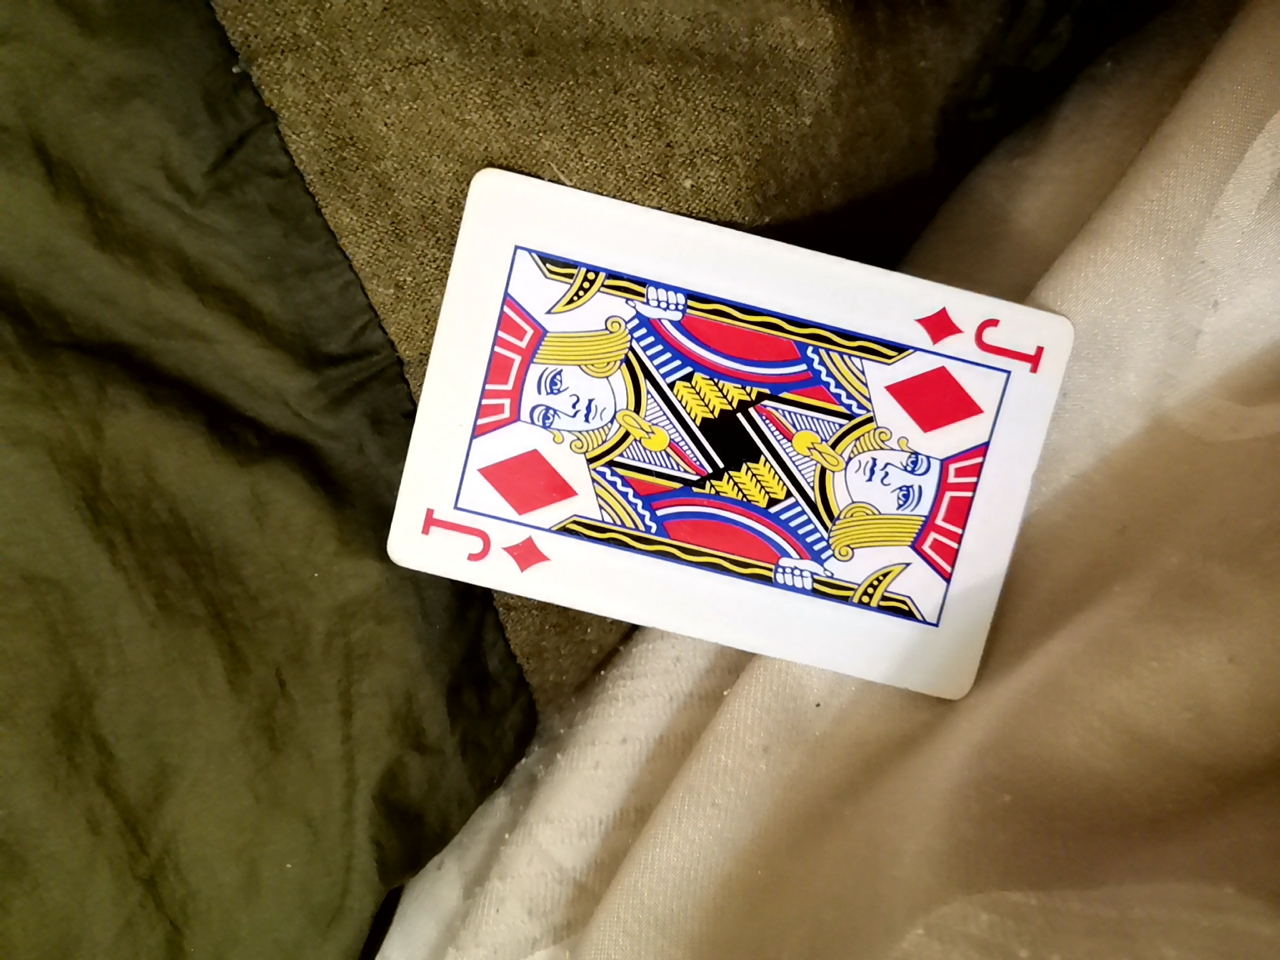fk j: (375, 206, 1060, 704)
